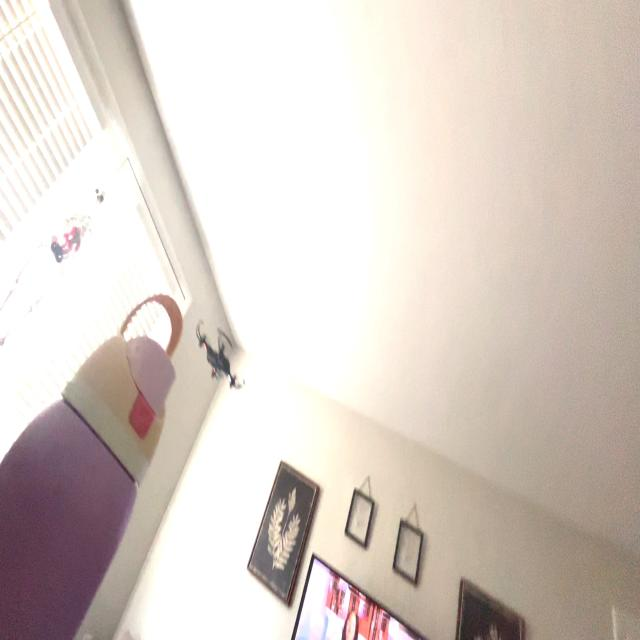drone: (187, 296, 251, 405)
